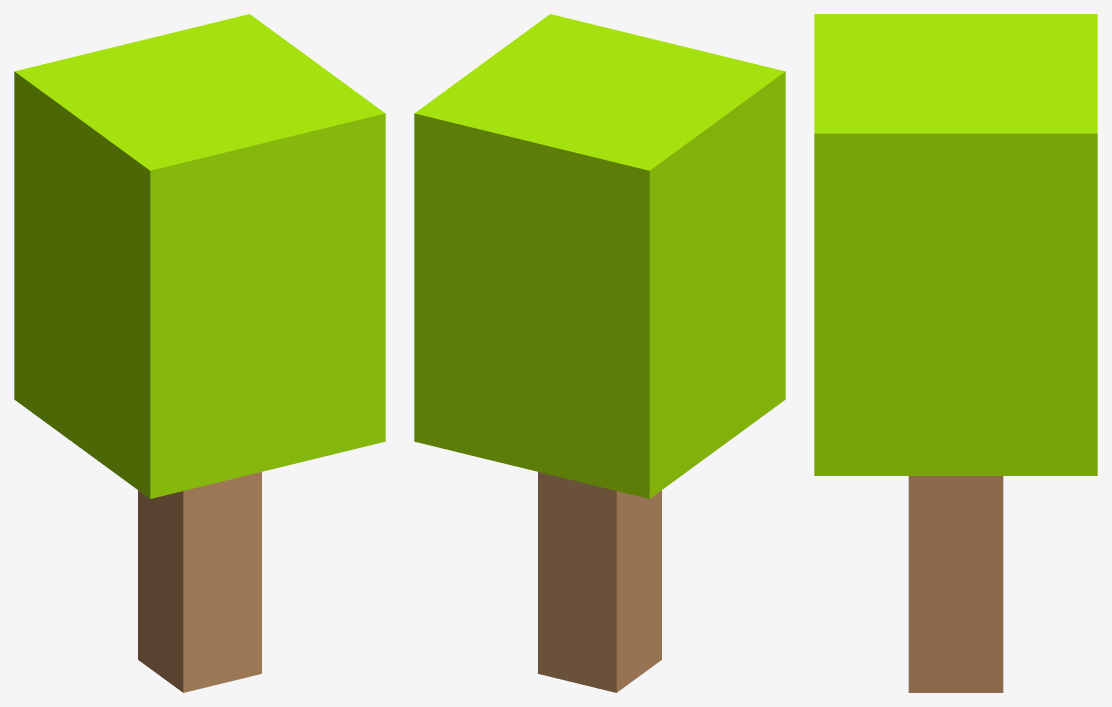
Rendered from trees_1_light.fbx.
The picture shows the model from 3 angles, left to right: view 1: azimuth 30°, elevation 25°; view 2: azimuth 150°, elevation 25°; view 3: azimuth 270°, elevation 25°; orthographic projection. The views are drawn at different scales.
Visible parts, largest first — view 1: Cube.055; view 2: Cube.055; view 3: Cube.055.
Boxes of the visible parts, box(x1,y1,x2,y2) form: Cube.055: box(14, 14, 385, 692); Cube.055: box(414, 14, 785, 692); Cube.055: box(814, 14, 1097, 692).
Size of the model in its own units: 300 by 700 by 300.
Materials: 1 (1 with a texture image).
